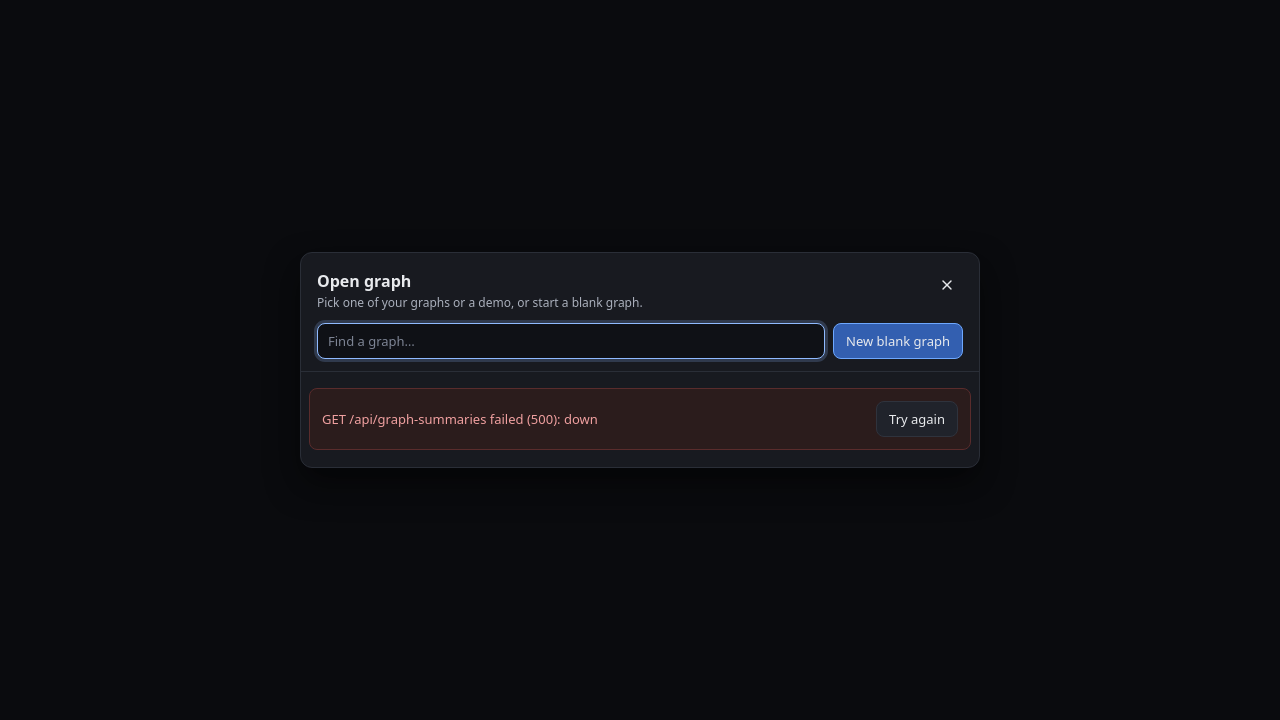
graph picker › says why the list is empty when the API fails, and retries
Expected: the message shows "down", [322,410,598,428]
Click the button "Try again". click: coordinates (917, 419)
box: [876,401,958,437]
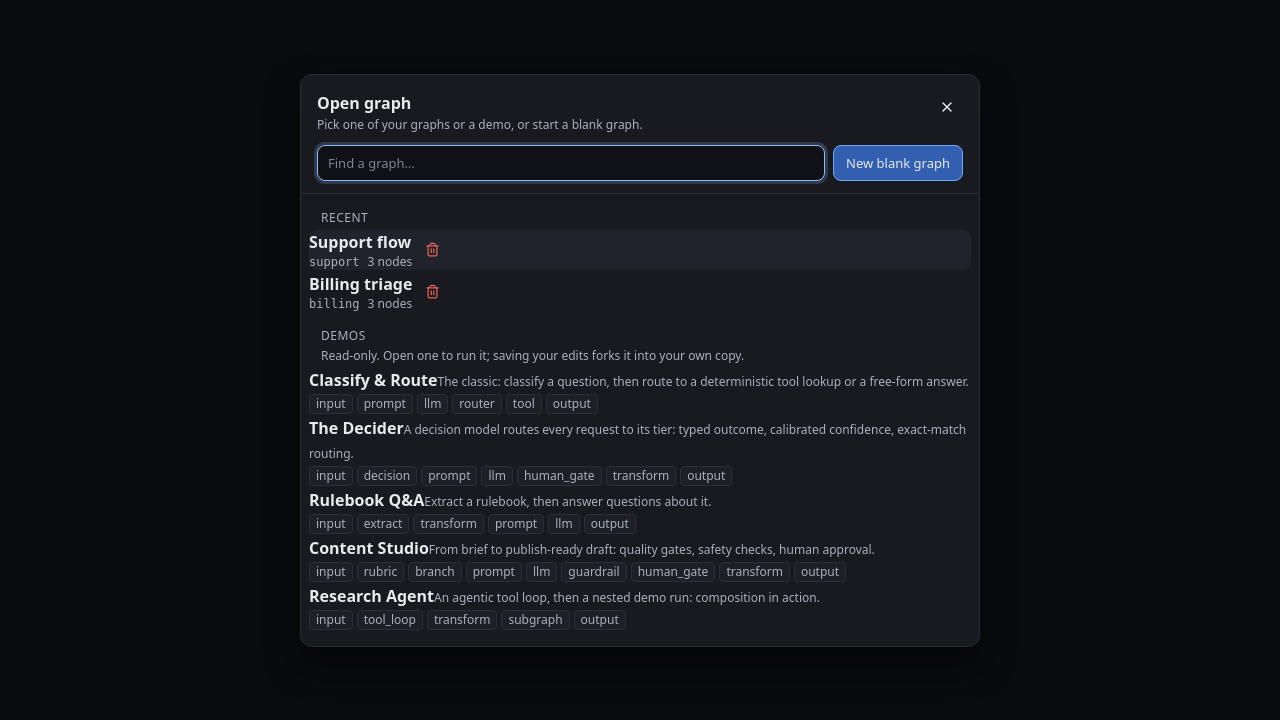
Result: the text "Support flow" is shown at [309,230,411,252]
